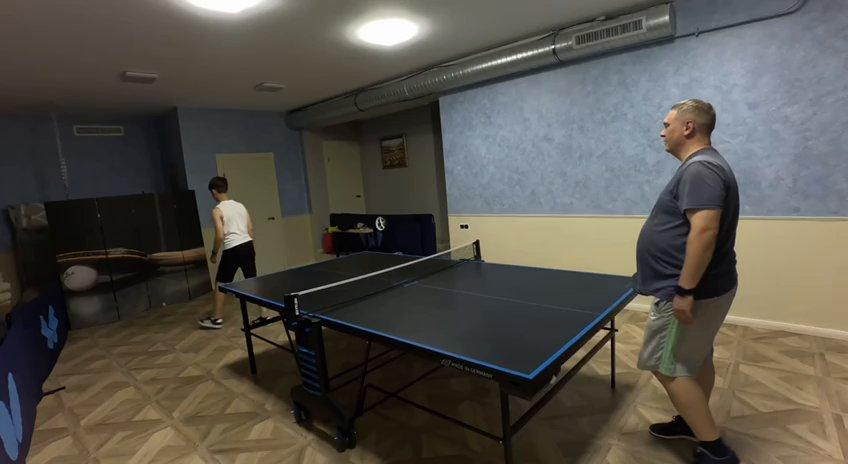Ball: (161, 301, 167, 307)
Net: (285, 241, 481, 322)
Player1: (201, 176, 256, 328)
Player2: (636, 99, 739, 463)
Table: (222, 253, 635, 380)
